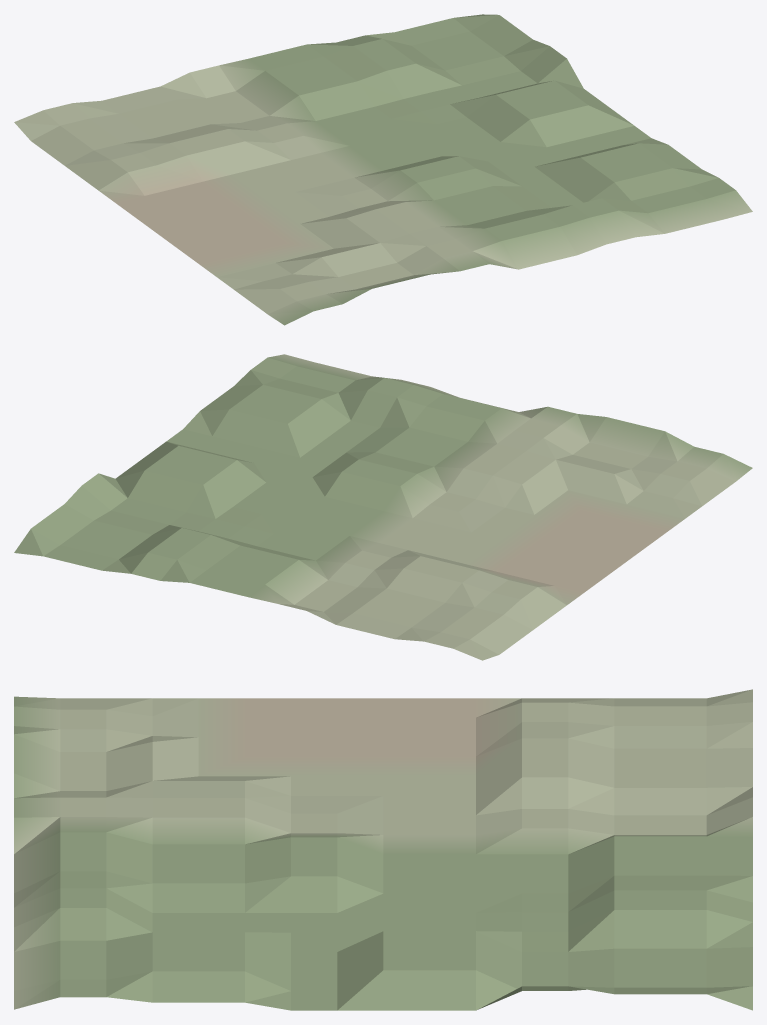
3 views of the same model, one above another, from view 1: azimuth 30°, elevation 25°; view 2: azimuth 150°, elevation 25°; view 3: azimuth 270°, elevation 25° (orthographic). The views are drawn at different scales.
Bounding box in the file's own units: 32 × 1.18 × 32.
